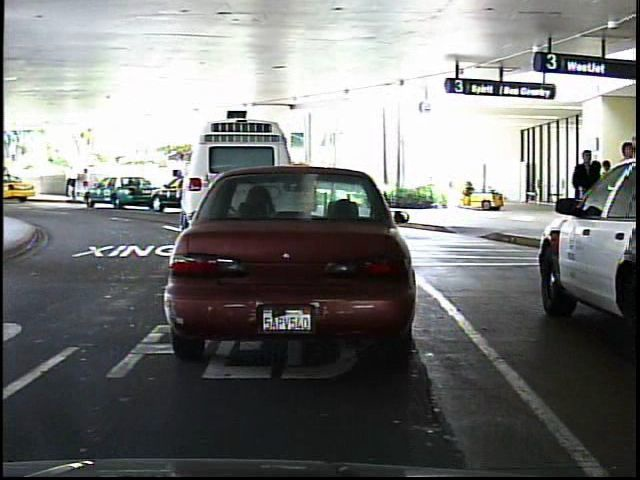person: (565, 145, 602, 248), (77, 164, 95, 200), (64, 161, 78, 199)
